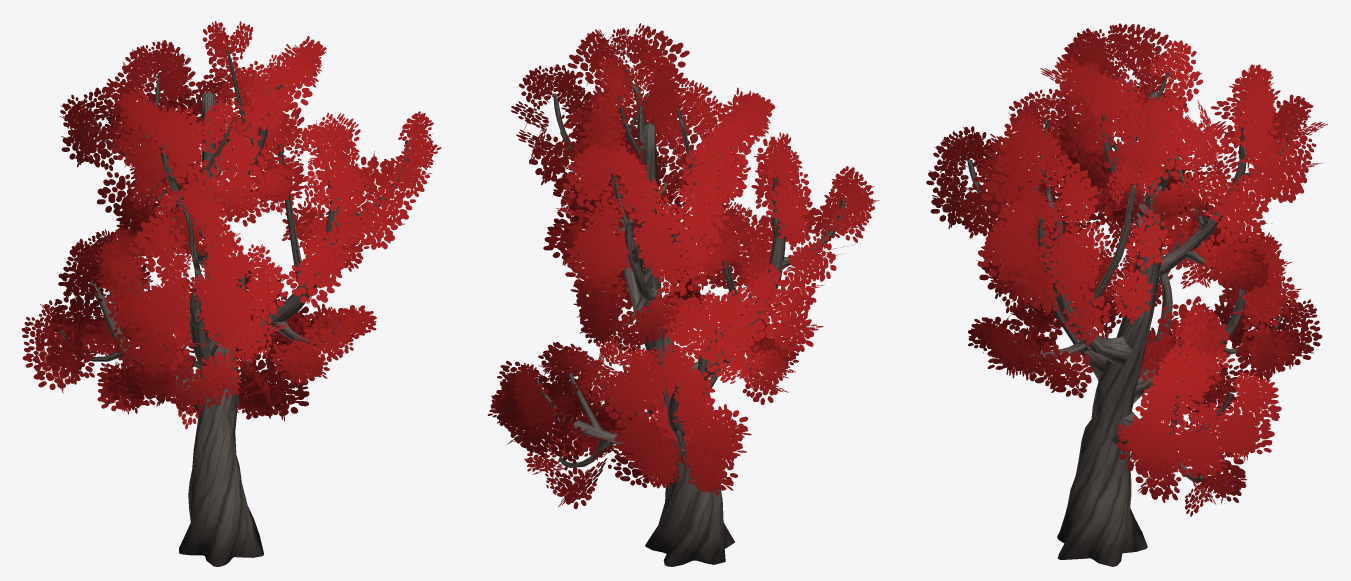
Rendered from broadleaf-spreading.mid.quaternius.glb.
The picture shows the model from 3 angles, left to right: view 1: azimuth 30°, elevation 25°; view 2: azimuth 150°, elevation 25°; view 3: azimuth 270°, elevation 25°; orthographic projection. The views are drawn at different scales.
Visible parts, largest first — view 1: TwistedTree_3; view 2: TwistedTree_3; view 3: TwistedTree_3.
Part boxes in pixels (x1=…): TwistedTree_3: x1=21, y1=21, x2=441, y2=566; TwistedTree_3: x1=487, y1=23, x2=878, y2=566; TwistedTree_3: x1=926, y1=23, x2=1327, y2=566.
Bounding box in the file's own units: 10.54 × 14.98 × 10.74.
Materials: 2 (2 with a texture image).
